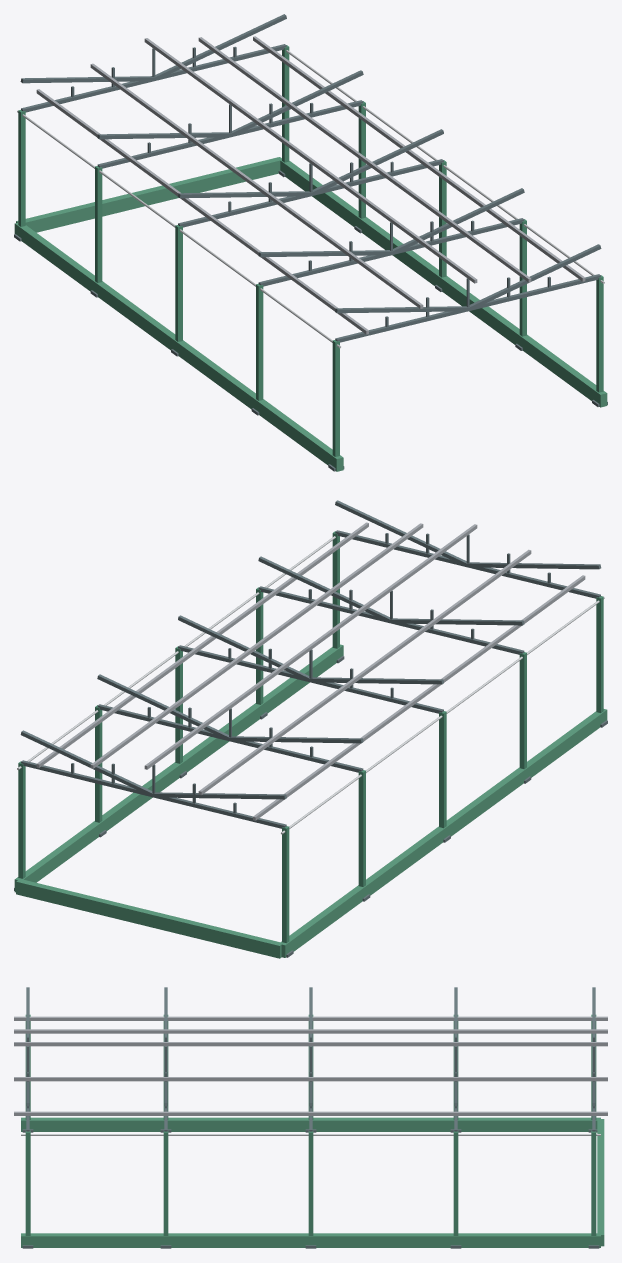
The model's file is canteen_pavilion_structure.glb.
The picture shows the model from 3 angles, top to bottom: view 1: azimuth 30°, elevation 25°; view 2: azimuth 150°, elevation 25°; view 3: azimuth 270°, elevation 25°; orthographic projection. The views are drawn at different scales.
Parts seen in each view (by area): view 1: Cube, Cube.001, Cube.002, Cube.064, Cube.066, Cube.065, Cube.067, Cube.063, Cube.023, Cube.055, Cube.031, Cube.039 (+23 smaller); view 2: Cube, Cube.001, Cube.002, Cube.064, Cube.065, Cube.066, Cube.063, Cube.067, Cube.055, Cube.023, Cube.047, Cube.039 (+23 smaller); view 3: Cube.001, Cube, Cube.064, Cube.065, Cube.066, Cube.067, Cube.063, Cylinder.001, Cube.002, Cube.005, Cube.021, Cube.009 (+2 smaller).
Part boxes in pixels (bbox=[...]): Cube: bbox=[14, 222, 343, 471]; Cube.001: bbox=[279, 158, 607, 407]; Cube.002: bbox=[16, 157, 281, 232]; Cube.064: bbox=[90, 63, 423, 308]; Cube.066: bbox=[198, 37, 531, 282]; Cube.065: bbox=[144, 38, 477, 283]; Cube.067: bbox=[253, 36, 585, 281]; Cube.063: bbox=[36, 89, 368, 334]; Cube.023: bbox=[335, 274, 600, 342]; Cube.055: bbox=[21, 44, 286, 112]; Cube.031: bbox=[258, 218, 524, 286]; Cube.039: bbox=[178, 159, 443, 227]; Cube: bbox=[278, 709, 607, 957]; Cube.001: bbox=[14, 644, 343, 892]; Cube.002: bbox=[16, 879, 281, 958]; Cube.064: bbox=[198, 549, 531, 795]; Cube.065: bbox=[144, 524, 477, 769]; Cube.066: bbox=[90, 523, 423, 768]; Cube.063: bbox=[253, 575, 585, 820]; Cube.067: bbox=[36, 522, 368, 767]; Cube.055: bbox=[21, 760, 286, 828]; Cube.023: bbox=[335, 530, 600, 598]; Cube.047: bbox=[97, 704, 363, 772]; Cube.039: bbox=[178, 645, 443, 713]; Cube.001: bbox=[21, 1233, 600, 1247]; Cube: bbox=[21, 1117, 600, 1131]; Cube.064: bbox=[14, 1029, 607, 1033]; Cube.065: bbox=[14, 1042, 607, 1046]; Cube.066: bbox=[14, 1077, 607, 1081]; Cube.067: bbox=[14, 1111, 607, 1115]; Cube.063: bbox=[14, 1016, 607, 1020]; Cylinder.001: bbox=[21, 1134, 600, 1135]; Cube.002: bbox=[597, 1119, 604, 1246]; Cube.005: bbox=[25, 1130, 30, 1235]; Cube.021: bbox=[591, 1130, 596, 1235]; Cube.009: bbox=[163, 1131, 168, 1235].
Size of the model in its own units: 8.1 by 4.58 by 16.9.
